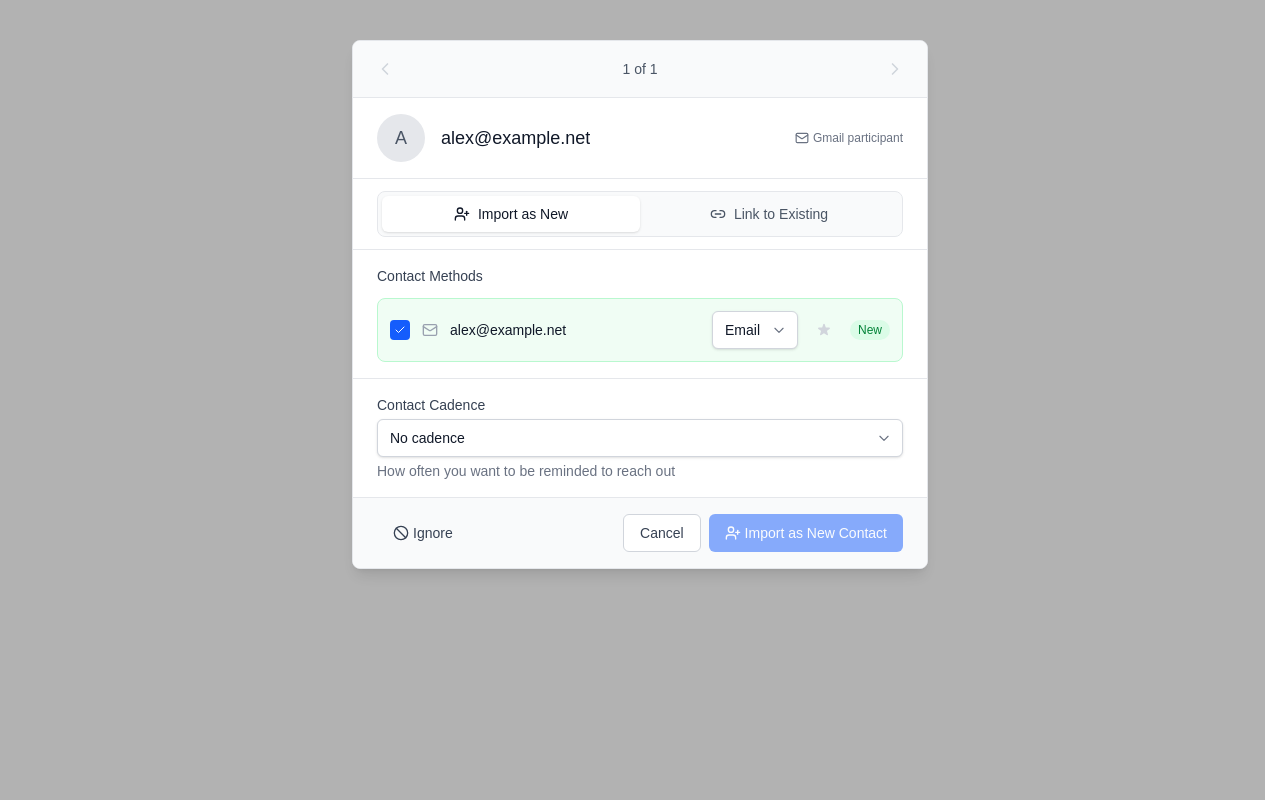
it: ContactCandidateResolver nameless candidate naming (gmail_participant) › escape-cancel reverts to empty, never to the address
The width and height of the screenshot is (1280, 800).
Click the heading "alex@example.net" at (516, 138), box 441,128 -> 590,148
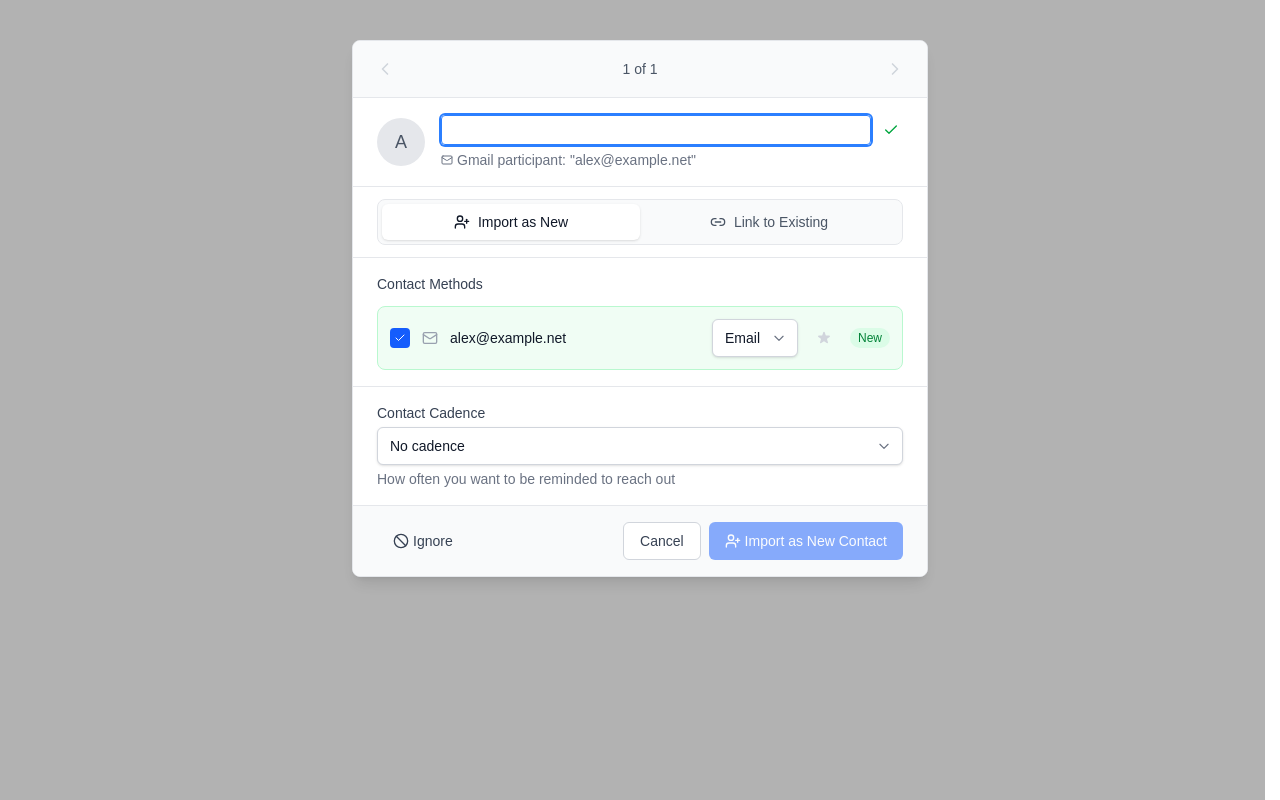
Type "partial" into the field at (656, 130), box 441,115 -> 871,145
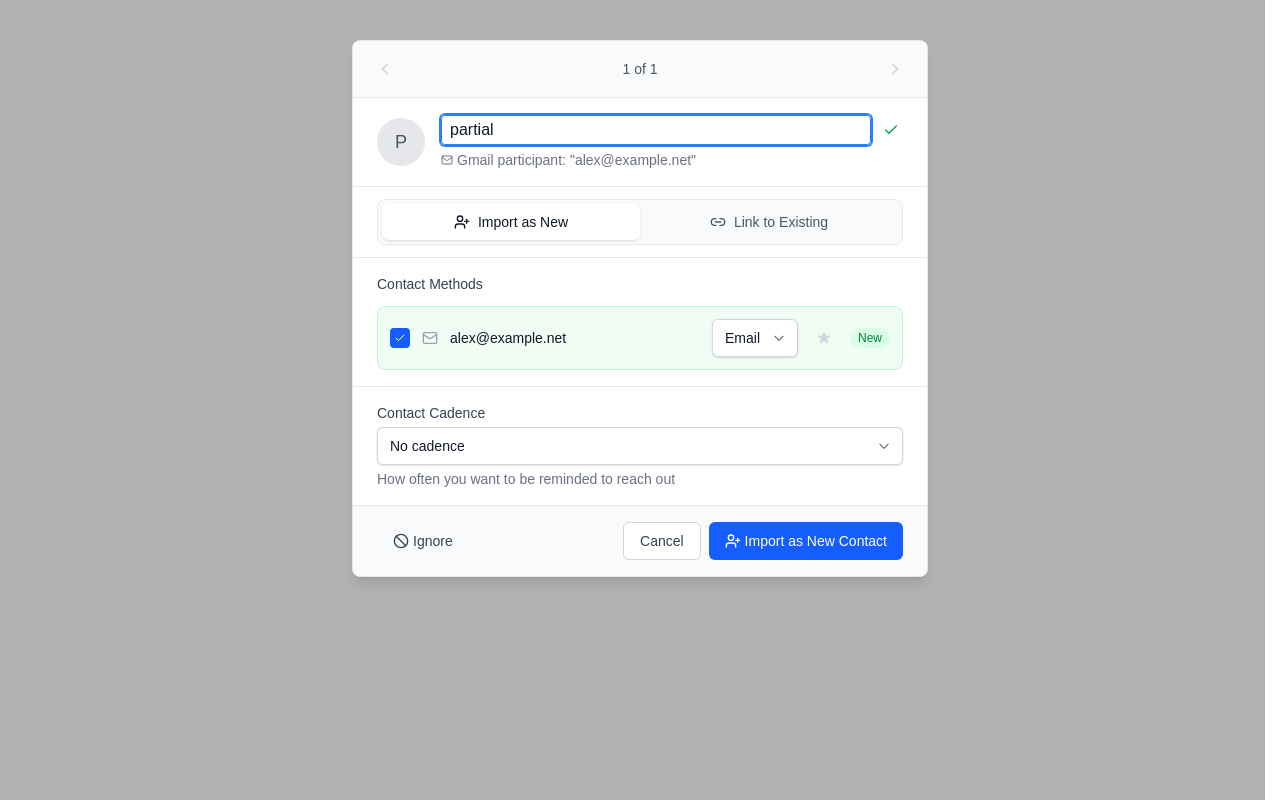
Press Escape
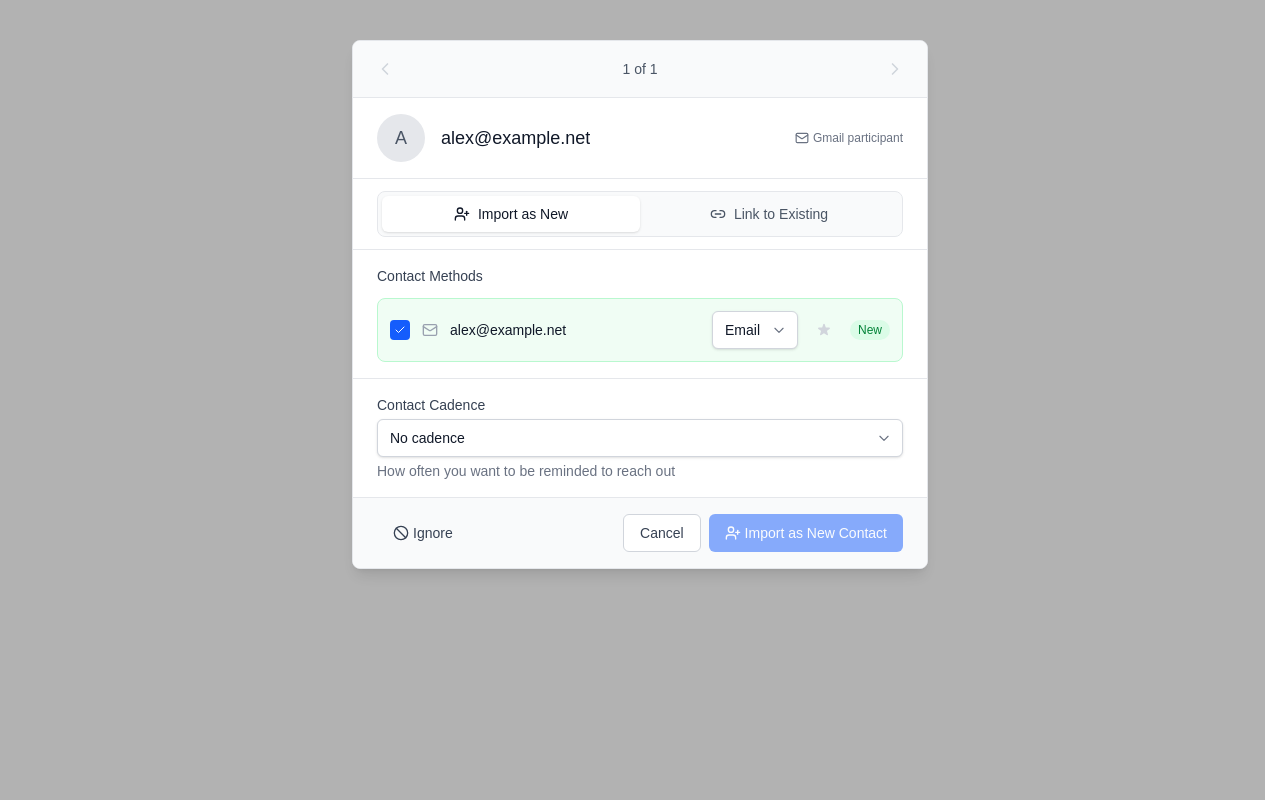
Click the heading "alex@example.net" at (516, 138), box 441,128 -> 590,148
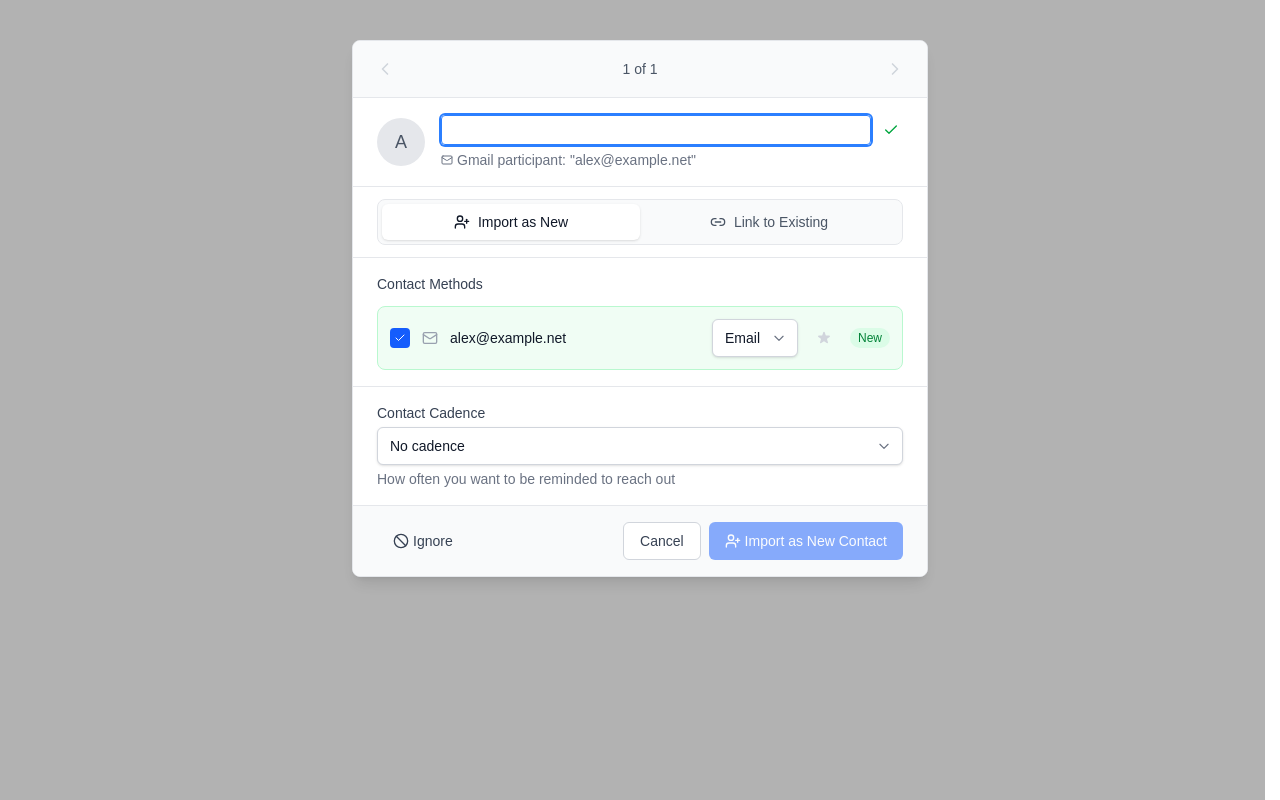
expect the button "Import as New Contact" is disabled: met, box 709,522 -> 903,560
expect the field is empty: met, box 441,115 -> 871,145
